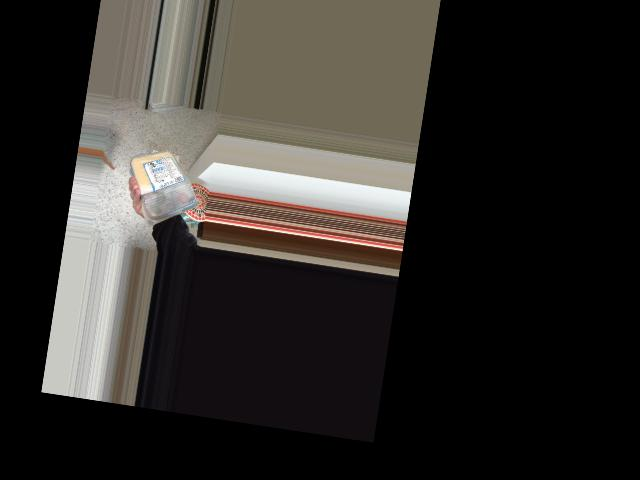cheese: (132, 144, 203, 221)
